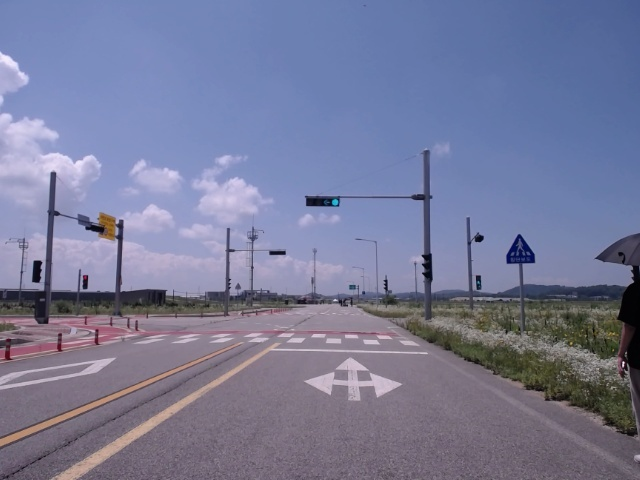all_green_4: (305, 195, 340, 207)
